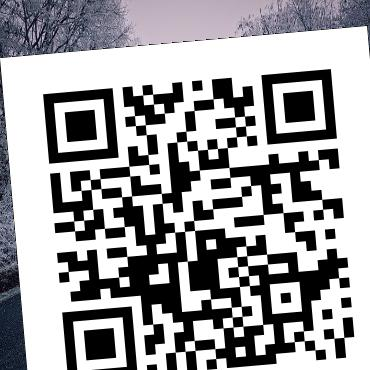qr_code: (0, 12, 369, 370)
